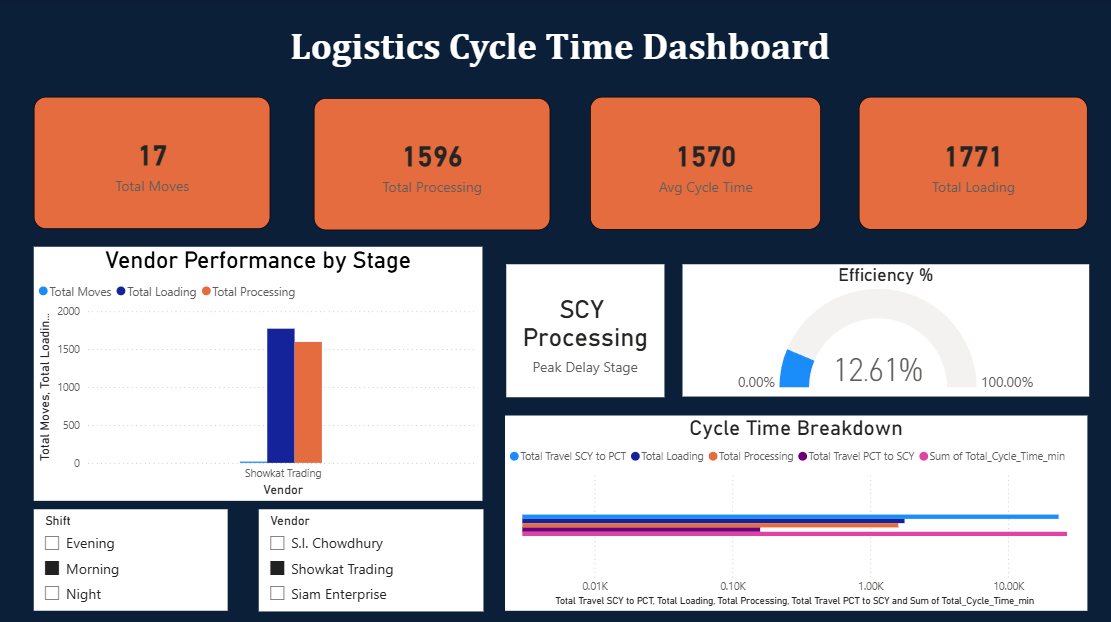

What the dashboard file says about the page in this screenshot:
{"tool":"powerbi","page":{"name":"Page 1","canvas":[1280,720],"ordinal":0},"visuals":[{"type":"card","fields":{"Values":["ITT_Data_Model.Total Processing"]},"box":[358.1,113.9,270.3,150.9],"z":0},{"type":"card","fields":{"Values":["ITT_Data_Model.Total Moves"]},"box":[38.4,113.3,270.3,150.9],"z":1000},{"type":"card","fields":{"Values":["ITT_Data_Model.Avg Cycle Time"]},"box":[674.4,112.2,264.2,152],"z":2000},{"type":"textbox","box":[211.3,24.7,857.6,81],"z":3000},{"type":"card","fields":{"Values":["ITT_Data_Model.Peak Delay Stage"]},"box":[577.9,304,181,152],"z":4000},{"type":"card","fields":{"Values":["ITT_Data_Model.Total Loading"]},"box":[982,113.4,261.8,152],"z":5000},{"type":"gauge","fields":{"Y":["ITT_Data_Model.Efficiency %"]},"box":[779.4,304,464.5,150.8],"z":6000},{"type":"clusteredBarChart","title":"Cycle Time Breakdown","fields":{"Y":["ITT_Data_Model.Total Travel SCY to PCT","ITT_Data_Model.Total Loading","ITT_Data_Model.Total Processing","ITT_Data_Model.Total Travel PCT to SCY","Sum(ITT_Data_Model.Total_Cycle_Time_min)"]},"box":[577.8,476.7,665.6,223.3],"z":7000},{"type":"lineClusteredColumnComboChart","title":"Vendor Performance by Stage","fields":{"Category":["ITT_Data_Model.Vendor"],"Y":["ITT_Data_Model.Total Moves","ITT_Data_Model.Total Loading","ITT_Data_Model.Total Processing"]},"box":[38.6,284.7,512.7,290.8],"z":8000},{"type":"slicer","fields":{"Values":["ITT_Data_Model.Shift"]},"box":[38.6,584.3,221.4,115.7],"z":8001},{"type":"slicer","fields":{"Values":["ITT_Data_Model.Vendor"]},"box":[294.3,584.3,257.1,117.1],"z":8002}]}

Visuals, with their boxes in screenshot pixels (x1, y1, x2, y2), scaled from the page's 1280x720 canvas onto the 1111x622 screenshot:
card - ITT_Data_Model.Total Processing: 311/98/545/229
card - ITT_Data_Model.Total Moves: 33/98/268/228
card - ITT_Data_Model.Avg Cycle Time: 585/97/815/228
textbox: 183/21/928/91
card - ITT_Data_Model.Peak Delay Stage: 502/263/659/394
card - ITT_Data_Model.Total Loading: 852/98/1080/229
gauge - ITT_Data_Model.Efficiency %: 676/263/1080/393
"Cycle Time Breakdown" clusteredBarChart: 502/412/1079/605
"Vendor Performance by Stage" lineClusteredColumnComboChart: 34/246/479/497
slicer - ITT_Data_Model.Shift: 34/505/226/605
slicer - ITT_Data_Model.Vendor: 255/505/479/606
